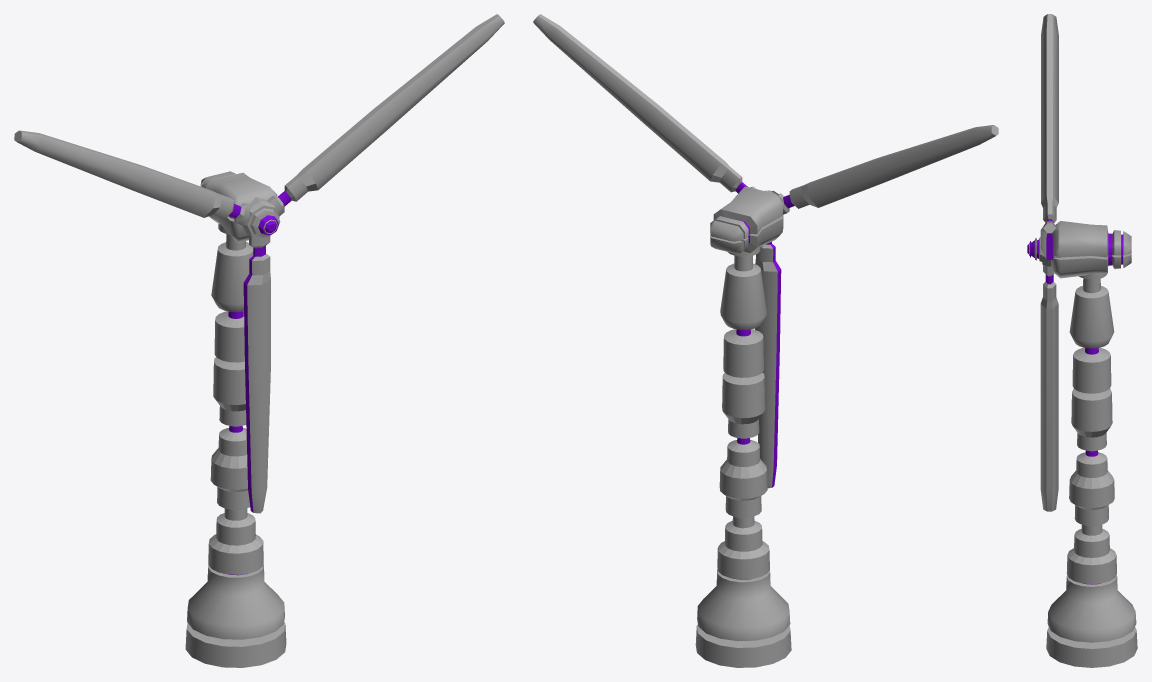
Rendered from turbineBladesSpinning.fbx.
3 renders of one model, left to right at view 1: azimuth 30°, elevation 25°; view 2: azimuth 150°, elevation 25°; view 3: azimuth 270°, elevation 25°, orthographic. The views are drawn at different scales.
Visible parts, largest first — view 1: stand, blade3, blade4, blade2, boxy, nose; view 2: stand, blade3, blade2, blade4, boxy; view 3: stand, blade4, blade2, boxy, blade3, nose.
Part boxes in pixels (x1,y1,x2,y2): stand: [185, 224, 286, 667]; blade3: [267, 14, 504, 216]; blade4: [243, 236, 270, 513]; blade2: [14, 130, 252, 225]; boxy: [200, 171, 277, 242]; nose: [234, 197, 280, 237]; stand: [695, 246, 791, 667]; blade3: [533, 14, 755, 193]; blade2: [777, 125, 998, 214]; blade4: [755, 241, 781, 488]; boxy: [710, 186, 783, 254]; stand: [1046, 269, 1137, 667]; blade4: [1040, 265, 1058, 511]; blade2: [1041, 14, 1058, 222]; boxy: [1051, 221, 1131, 278]; blade3: [1040, 221, 1058, 259]; nose: [1027, 237, 1061, 266].
Bounding box in the file's own units: 1147 × 1329 × 250.
